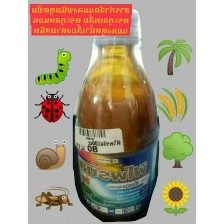insecticide: (71, 5, 162, 219)
